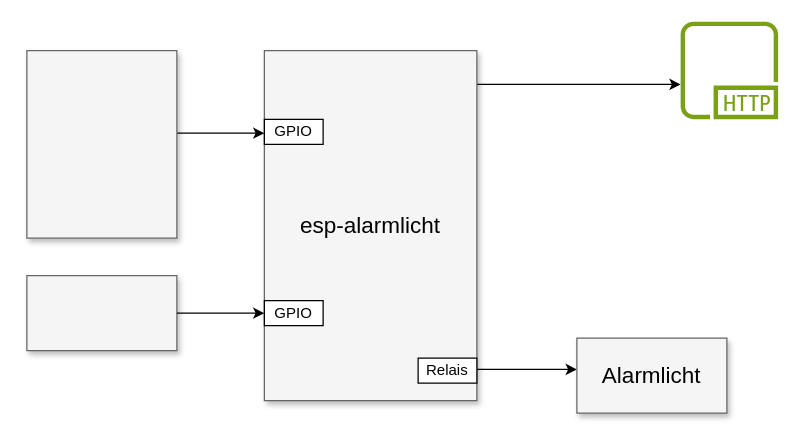
The diagram is 800 pixels wide and 444 high, and some of its shapes have lost their labels. The centre of each missing label's shape, as x and y in pixels:
Divera API: the point at 729,69
DME: the point at 102,314
Funklicht: the point at 102,145
